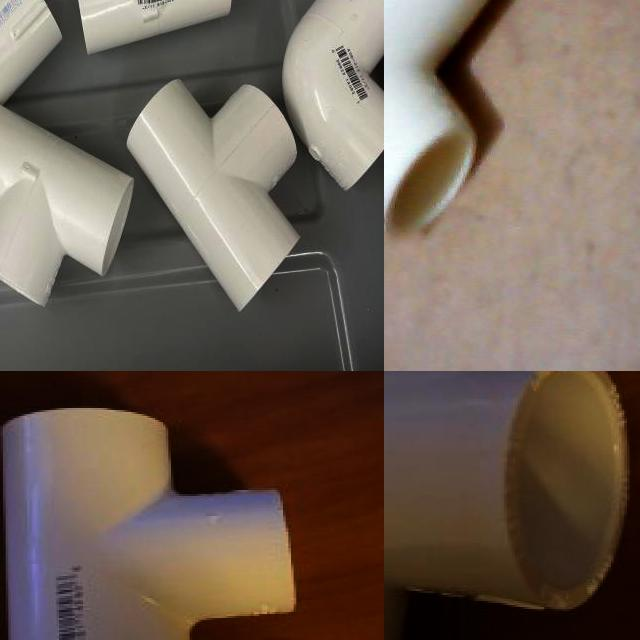T Joint: (0, 408, 297, 640), (384, 371, 625, 640), (125, 81, 301, 312), (0, 107, 135, 308), (384, 0, 493, 235), (78, 0, 231, 57)
